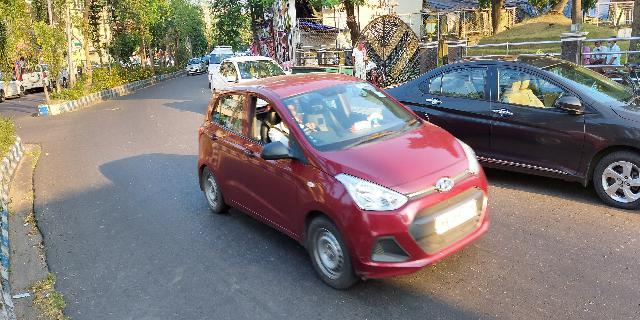Car: (196, 74, 498, 289), (376, 53, 640, 212)
